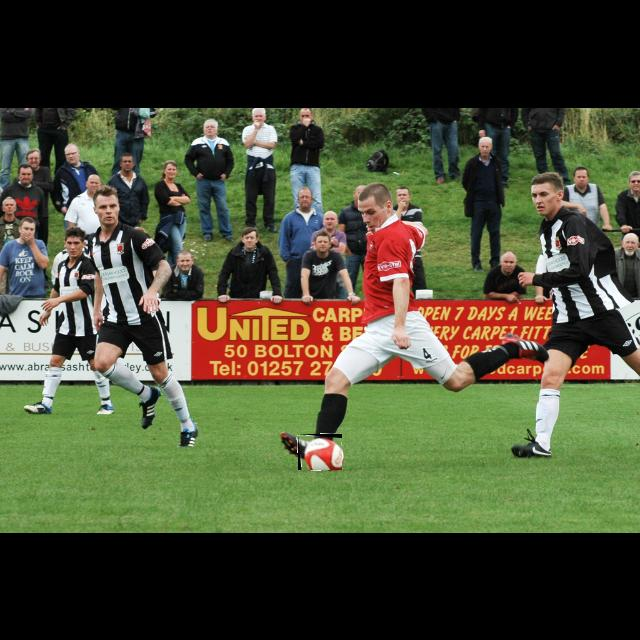Football: (298, 434, 342, 470)
